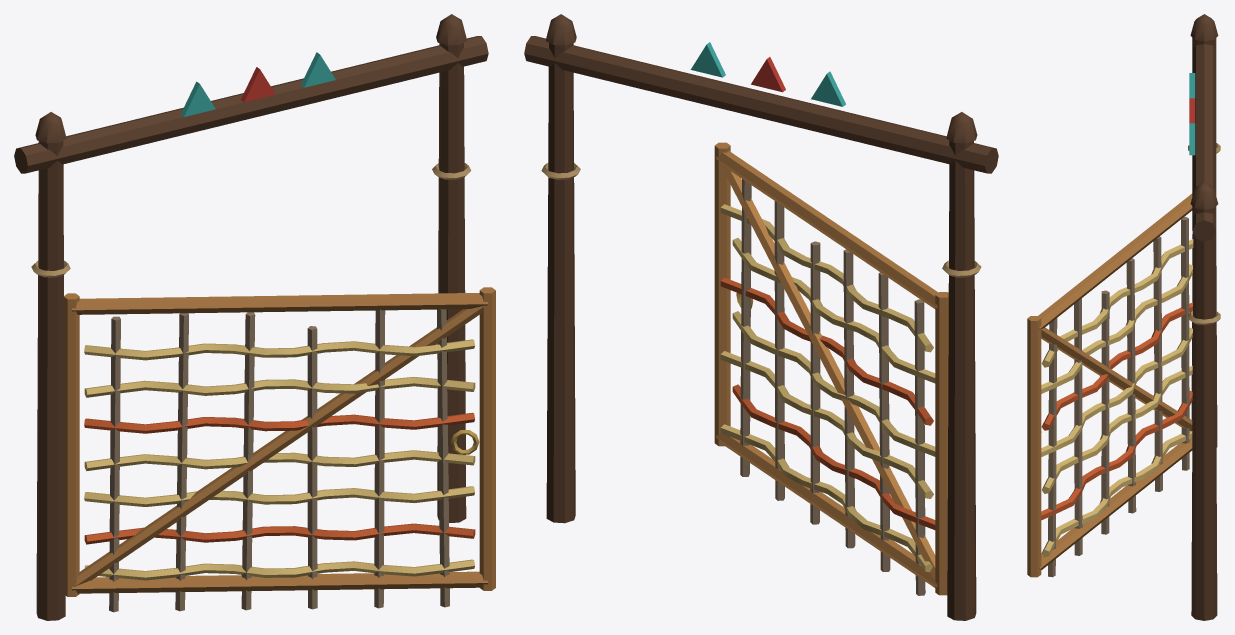
Rendered from deco_fence_gate.fbx.
The picture shows the model from 3 angles, left to right: view 1: azimuth 30°, elevation 25°; view 2: azimuth 150°, elevation 25°; view 3: azimuth 270°, elevation 25°; orthographic projection. The views are drawn at different scales.
Visible parts, largest first — view 1: Fence_Gate_Gate, Fence_Gate_Frame; view 2: Fence_Gate_Gate, Fence_Gate_Frame; view 3: Fence_Gate_Gate, Fence_Gate_Frame.
Part boxes in pixels (<box>): Fence_Gate_Gate: <box>64,287,495,612</box>; Fence_Gate_Frame: <box>14,14,488,620</box>; Fence_Gate_Gate: <box>714,142,948,595</box>; Fence_Gate_Frame: <box>524,14,998,620</box>; Fence_Gate_Gate: <box>1027,193,1193,577</box>; Fence_Gate_Frame: <box>1188,14,1220,620</box>.
Size of the model in its own units: 230 by 240 by 97.12.
